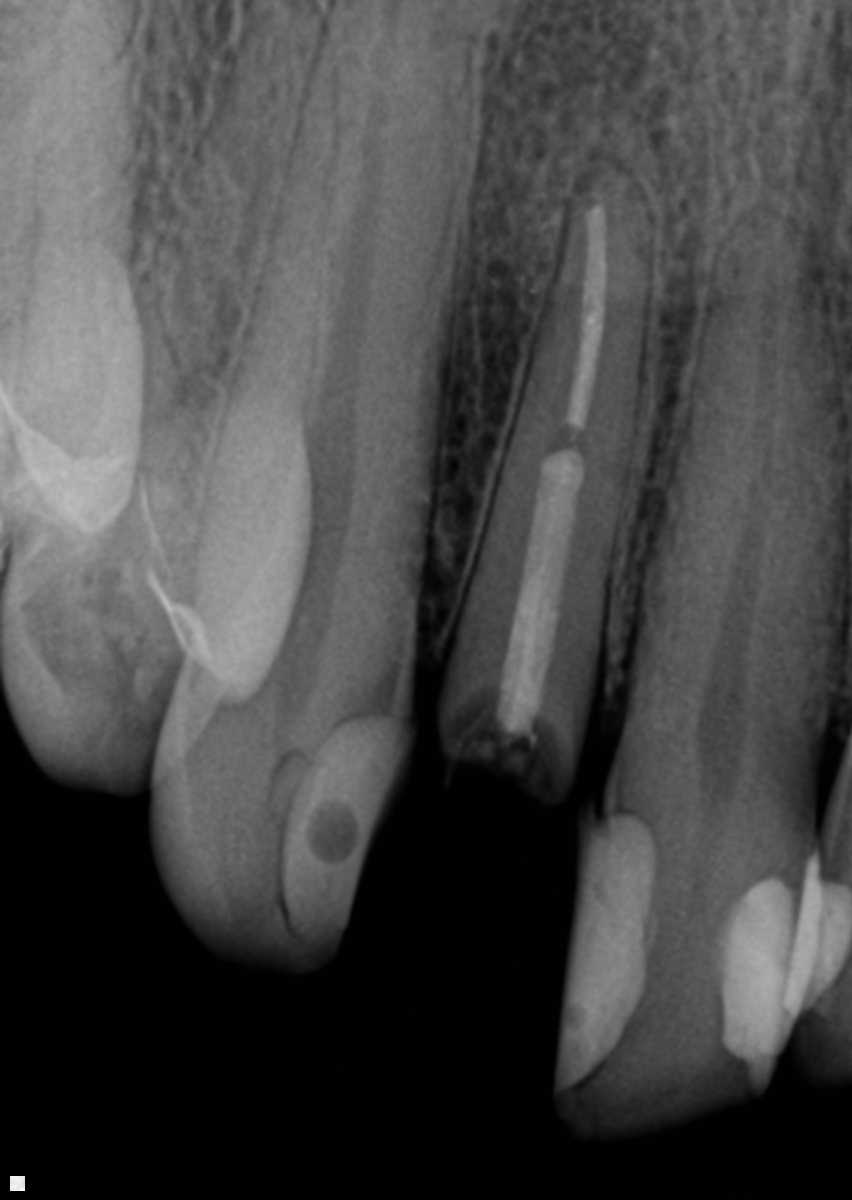Main Canal: (276, 29, 399, 686), (695, 221, 790, 811)
Main Root: (194, 5, 503, 709), (601, 193, 852, 827), (440, 163, 653, 775)
Root Canal Filling: (497, 454, 581, 741), (565, 196, 606, 437)
